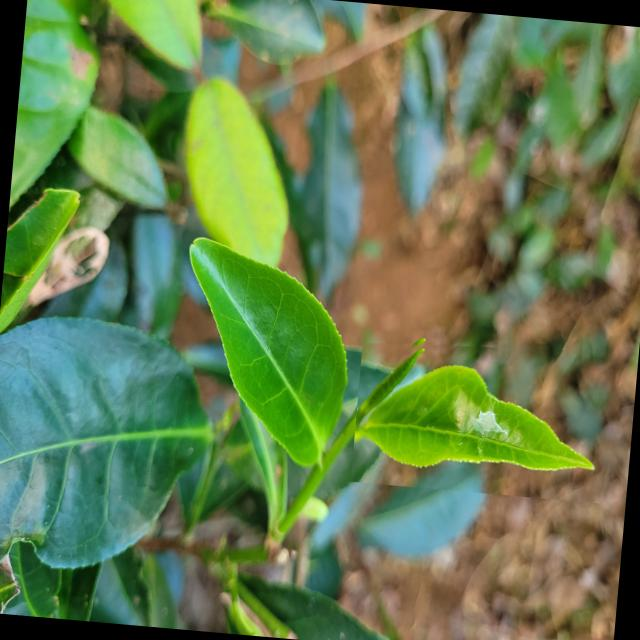Catagory A(1-2 days): (350, 329, 620, 504)
